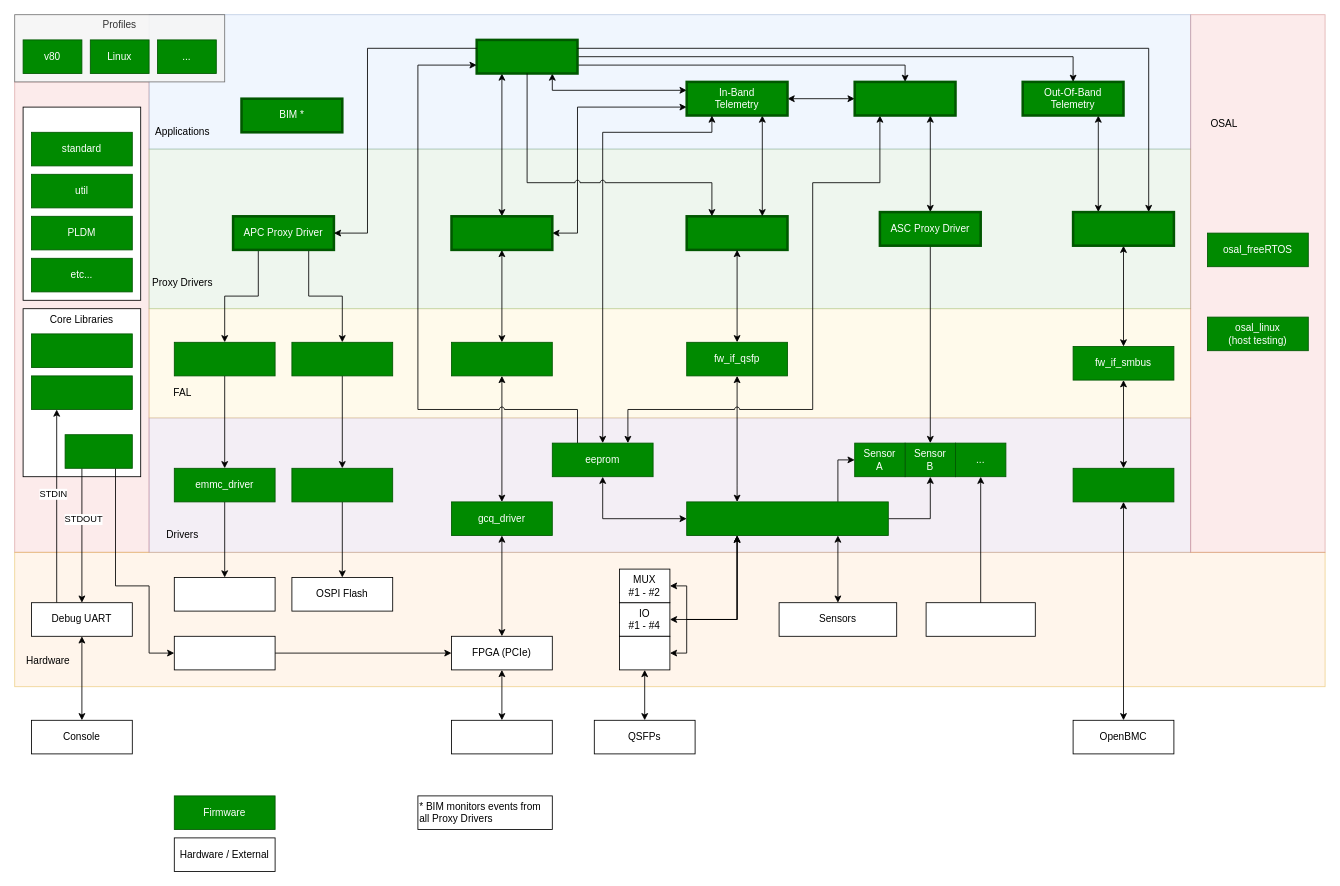
The diagram is 1340 pixels wide and 886 high, and some of its shapes have lost their labels. Here are the shapes that lost their labels. From the top down, the centre of each, then its label:
(x=526, y=56): AMC
(x=904, y=98): ASDM
(x=501, y=233): AMI Proxy Driver
(x=736, y=233): AXC Proxy Driver
(x=1123, y=228): BMC Proxy Driver
(x=81, y=350): EVL
(x=224, y=358): fw_if_emmc
(x=342, y=358): fw_if_ospi
(x=501, y=358): fw_if_gcq
(x=81, y=392): DAL
(x=98, y=451): PLL
(x=342, y=484): ospi_driver
(x=1123, y=484): smbus_driver
(x=787, y=518): i2c_driver
(x=224, y=594): eMMC Flash
(x=980, y=619): SysMon
(x=224, y=652): FPGA (logs)
(x=644, y=652): QSFP #1 - #4
(x=501, y=736): AMI
